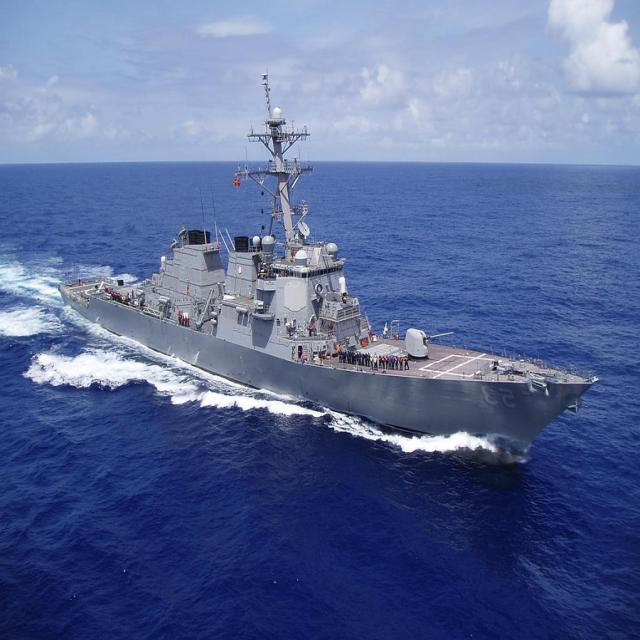navalvessels: (55, 63, 610, 457)
